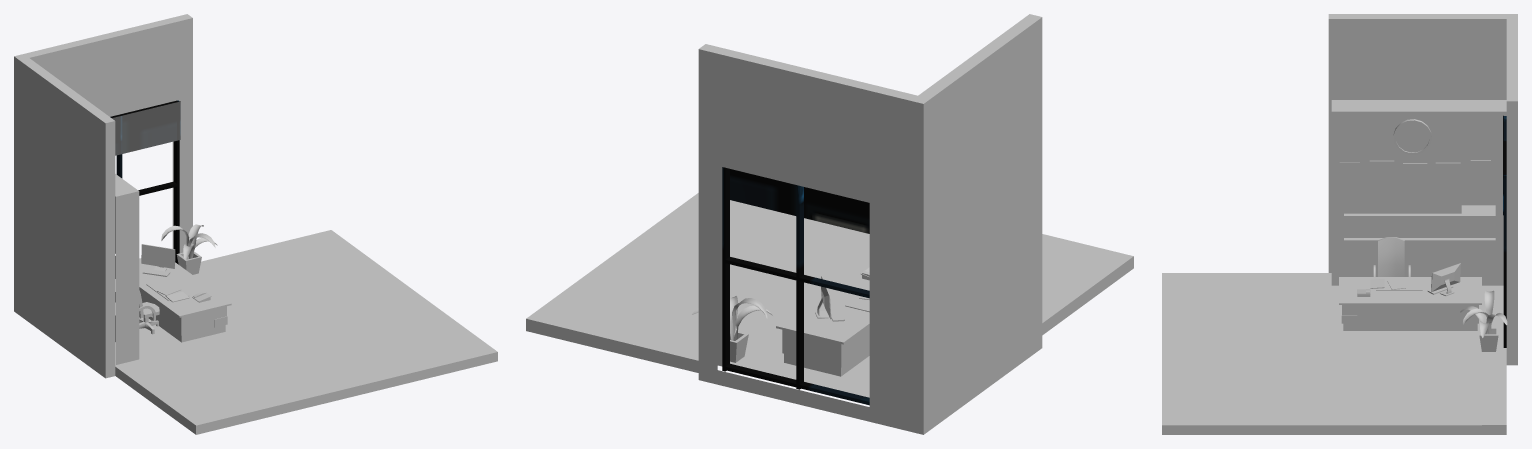
Rendered from Tx_Interior_City_Hall_Office_20170810.fbx.
3 renders of one model, left to right at view 1: azimuth 30°, elevation 25°; view 2: azimuth 150°, elevation 25°; view 3: azimuth 270°, elevation 25°, orthographic. The views are drawn at different scales.
Visible parts, largest first — view 1: polySurface335, polySurface362, polySurface359, polySurface393, Plant1, polySurface356; view 2: polySurface335, polySurface393, polySurface359, Plant1; view 3: polySurface335, polySurface362, polySurface359, polySurface371, polySurface370, Plant1, polySurface363, polySurface352, polySurface393, polySurface368, polySurface366, polySurface356 (+4 smaller).
Part boxes in pixels (bbox=[...]): polySurface335: bbox=[14, 14, 497, 434]; polySurface362: bbox=[115, 174, 139, 364]; polySurface359: bbox=[139, 258, 231, 342]; polySurface393: bbox=[110, 100, 180, 264]; Plant1: bbox=[161, 224, 217, 274]; polySurface356: bbox=[141, 244, 175, 268]; polySurface335: bbox=[526, 14, 1133, 434]; polySurface393: bbox=[722, 167, 869, 405]; polySurface359: bbox=[776, 260, 869, 376]; Plant1: bbox=[692, 296, 772, 362]; polySurface335: bbox=[1162, 14, 1517, 434]; polySurface362: bbox=[1331, 100, 1506, 285]; polySurface359: bbox=[1339, 277, 1481, 330]; polySurface371: bbox=[1344, 218, 1495, 237]; polySurface370: bbox=[1344, 194, 1461, 213]; Plant1: bbox=[1460, 290, 1507, 351]; polySurface363: bbox=[1393, 119, 1431, 154]; polySurface352: bbox=[1378, 237, 1404, 276]; polySurface393: bbox=[1503, 115, 1506, 347]; polySurface368: bbox=[1435, 162, 1460, 187]; polySurface366: bbox=[1369, 160, 1394, 185]; polySurface356: bbox=[1431, 263, 1460, 291].
Size of the model in its own units: 40.4 by 31.58 by 38.61.
